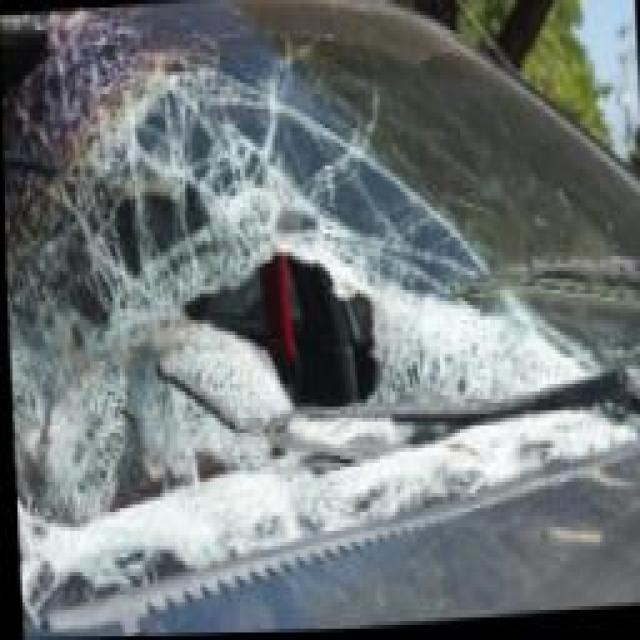Windshield: (0, 0, 640, 535)
